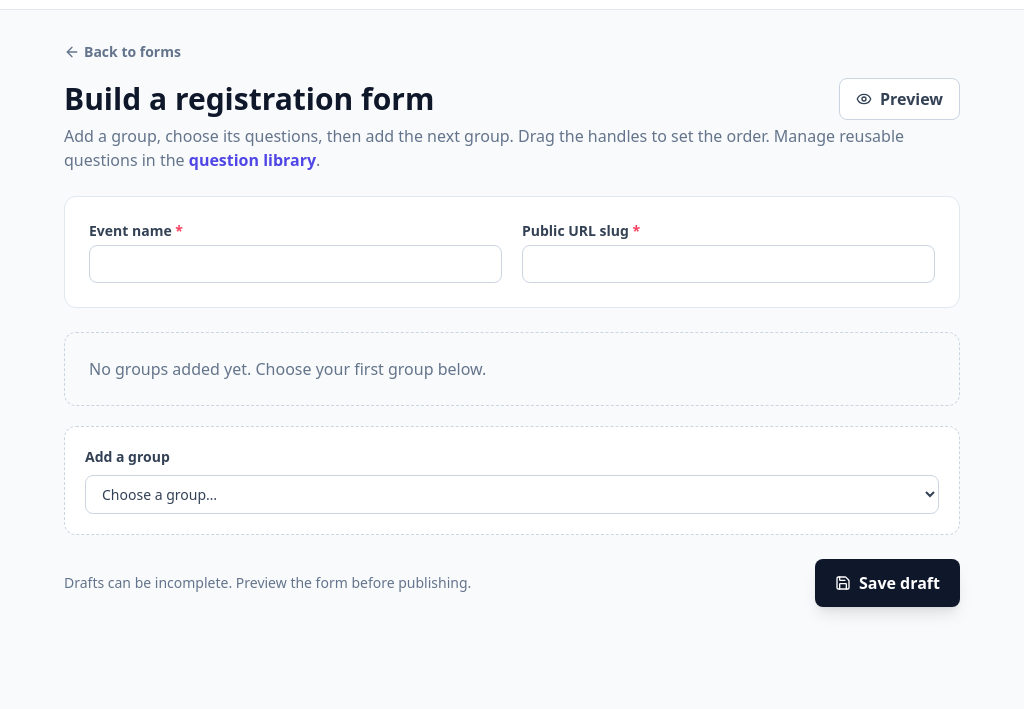
it: application integration › preserves a manually typed hyphenated slug and shows the saved draft on the dashboard
Step 1. Type "Forest Camp 2026" into the field labelled "Event name *" → (296, 264), box x1=89 y1=245 x2=502 y2=283
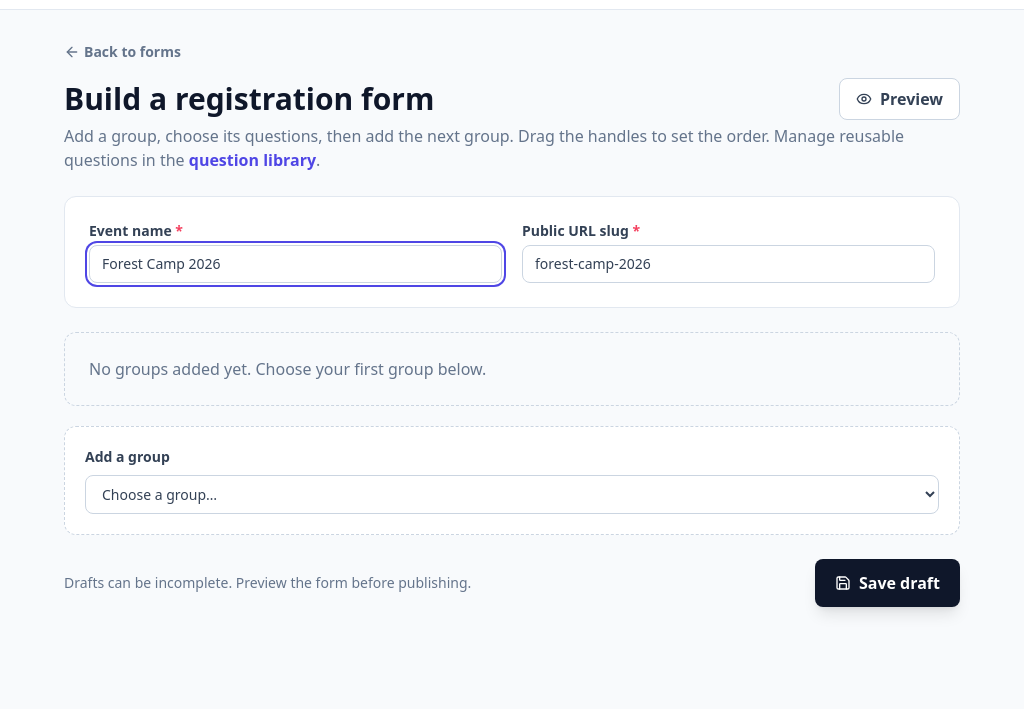
Result: the field labelled "Public URL slug *" holds "forest-camp-2026"
Step 2. Replace the text in the field labelled "Public URL slug *" with "forest-camp" → (728, 264), box x1=522 y1=245 x2=935 y2=283
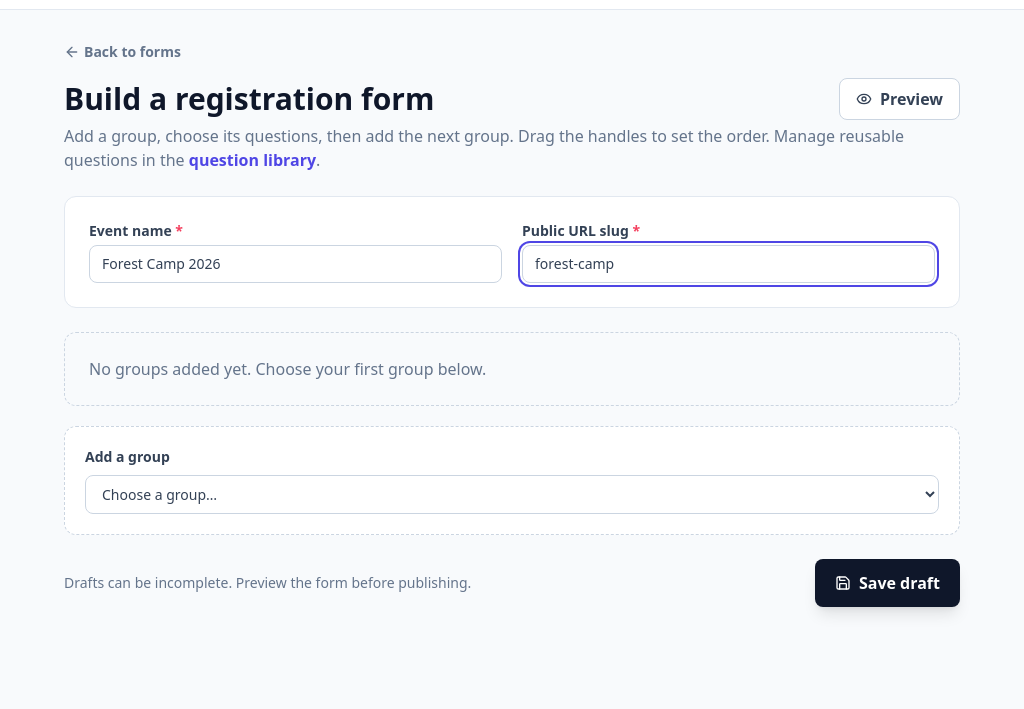
Step 3. Select "Student Details" in the dropdown labelled "Add a group" → (512, 494), box x1=85 y1=475 x2=939 y2=514
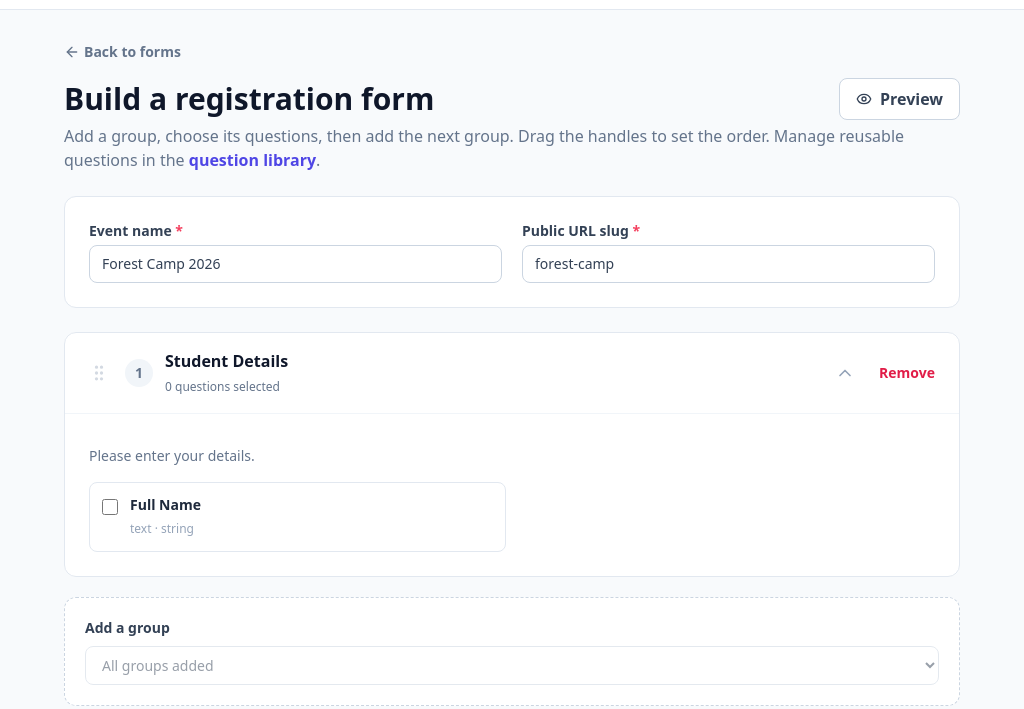
Step 4. Click the checkbox labelled "Full Name text · string" → (110, 507), box x1=102 y1=499 x2=118 y2=515
(page scrolled)
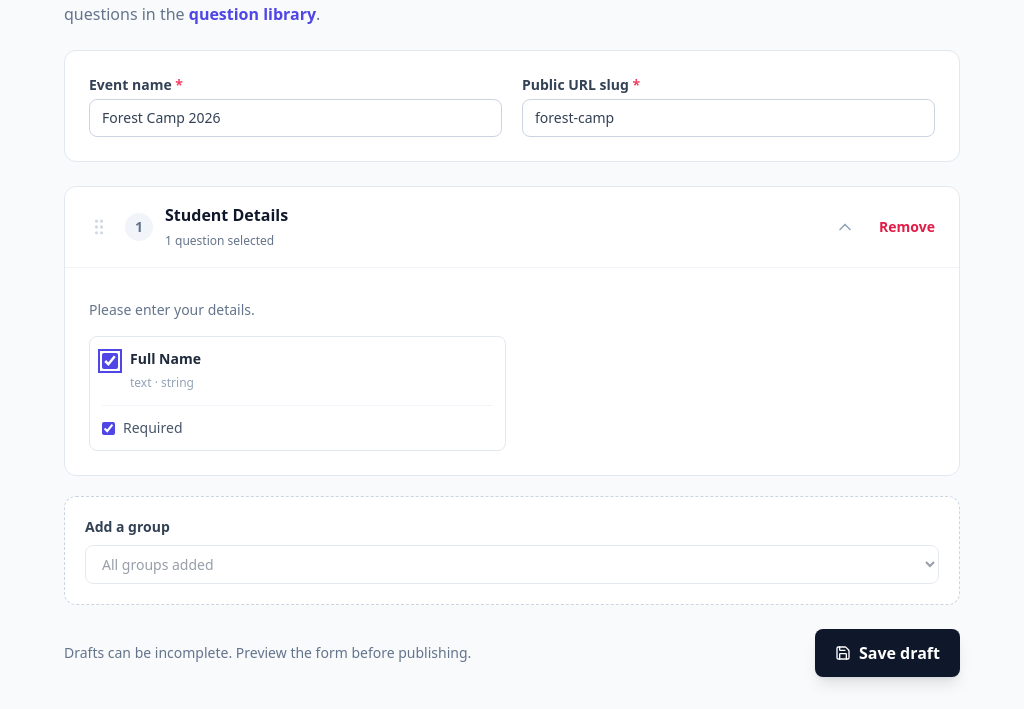
Step 5. Click the button "Save draft" → (887, 653), box x1=815 y1=629 x2=960 y2=677
(page scrolled)
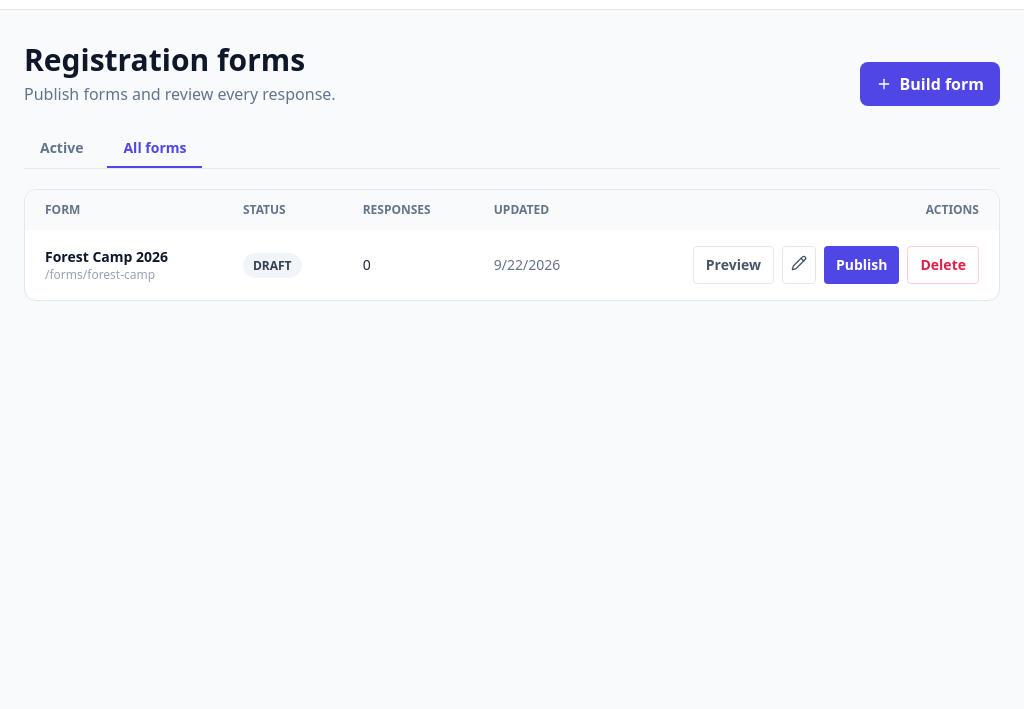
Result: the button "Publish" is shown at x1=824 y1=246 x2=900 y2=284
Result: the text "Forest Camp 2026" is shown at x1=45 y1=247 x2=168 y2=266
